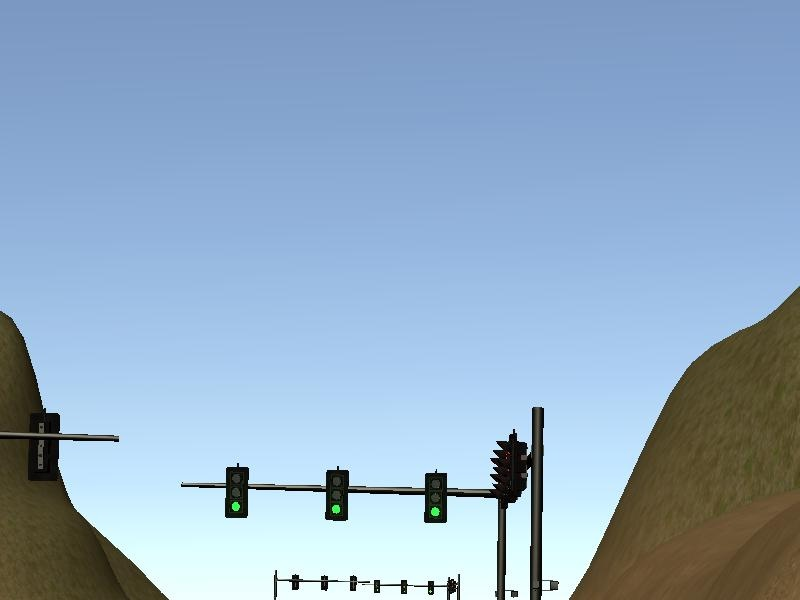traffic_light_green: (212, 467, 485, 523)
